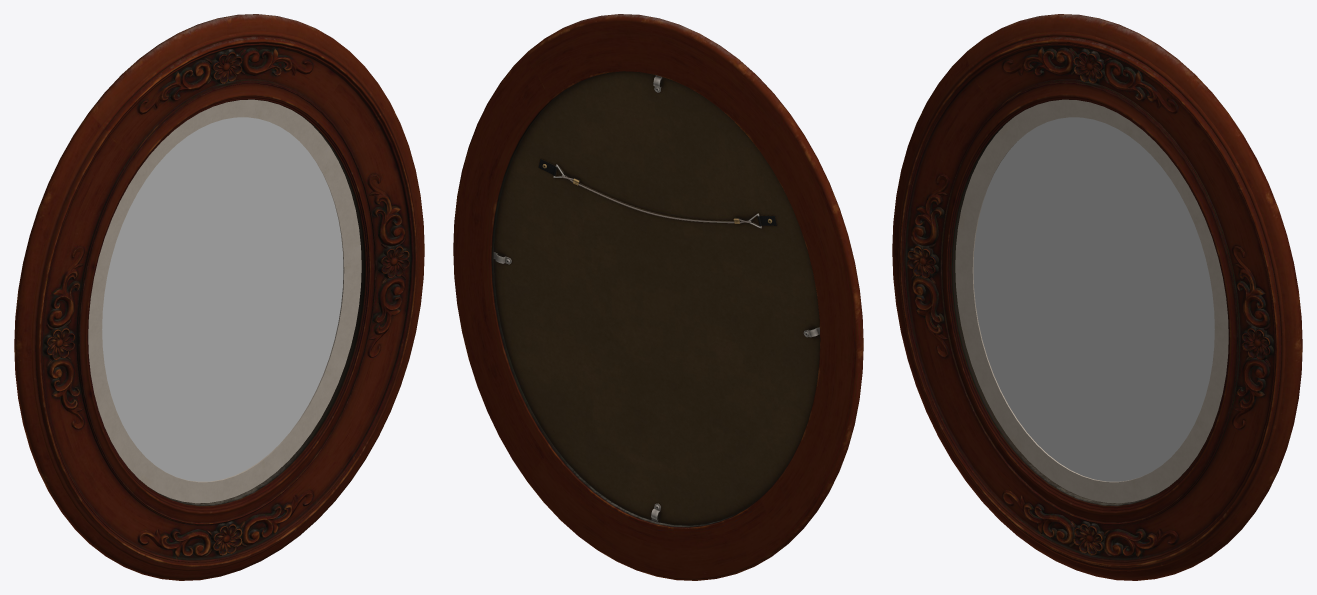
File: hanging_picture_frame_03_2k.fbx
3 renders of one model, left to right at view 1: azimuth 30°, elevation 25°; view 2: azimuth 150°, elevation 25°; view 3: azimuth 330°, elevation 25°, orthographic.
Parts seen in each view (by area): view 1: hanging_picture_frame_03; view 2: hanging_picture_frame_03; view 3: hanging_picture_frame_03.
Part boxes in pixels (x1,y1,x2,y2): hanging_picture_frame_03: [14, 14, 424, 580]; hanging_picture_frame_03: [453, 14, 863, 580]; hanging_picture_frame_03: [892, 14, 1302, 580].
Size of the model in its own units: 0.385 by 0.5024 by 0.0207.
